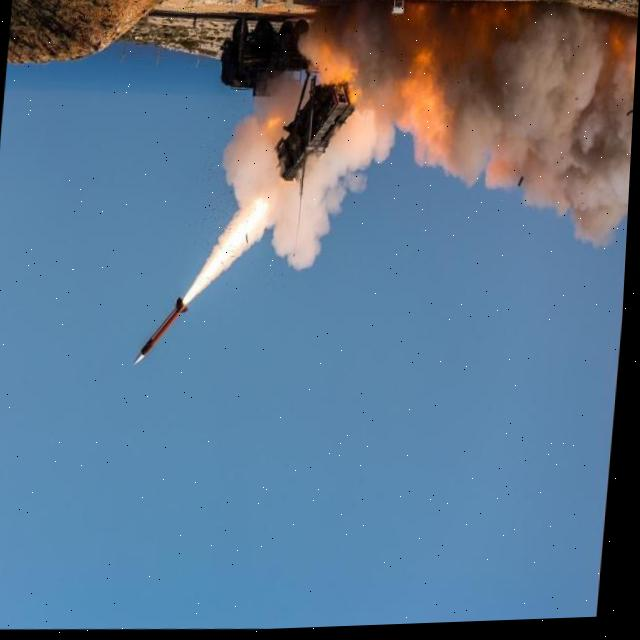missile: (134, 295, 193, 368)
